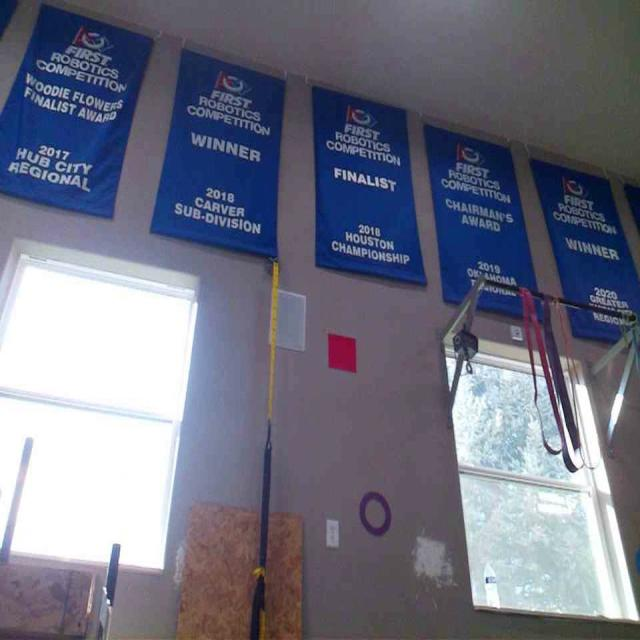ring_purple: (357, 489, 392, 537)
square_red: (326, 333, 358, 375)
